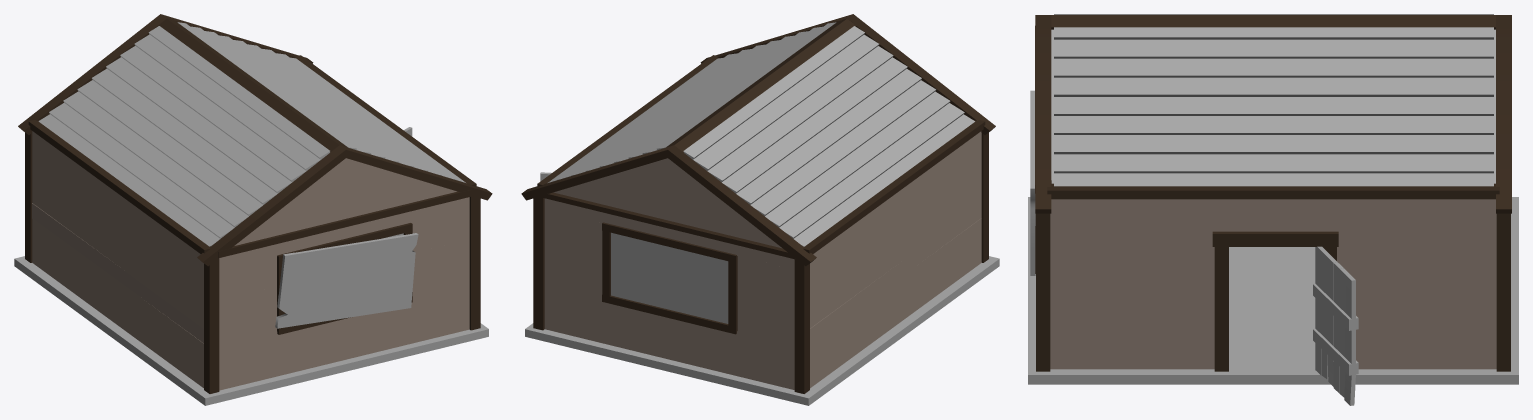
Rendered from cabana.fbx.
3 views of the same model, side by side, from view 1: azimuth 30°, elevation 25°; view 2: azimuth 150°, elevation 25°; view 3: azimuth 270°, elevation 25° (orthographic). The views are drawn at different scales.
Parts seen in each view (by area): view 1: polySurface159, polySurface43, polySurface171, pCube208, polySurface46; view 2: polySurface159, polySurface43, polySurface171, pCube211, polySurface46; view 3: polySurface43, polySurface159, polySurface171, polySurface46, polySurface50, pCube208.
Part boxes in pixels (x1,y1,x2,y2): polySurface159: (32,131,469,390); polySurface43: (38,22,465,246); polySurface171: (18,14,492,393); pCube208: (275,233,418,328); polySurface46: (14,256,488,405); polySurface159: (544,131,981,389); polySurface43: (548,22,974,246); polySurface171: (521,14,995,393); pCube211: (611,232,728,323); polySurface46: (525,256,999,405); polySurface43: (1051,14,1495,186); polySurface159: (1050,199,1496,369); polySurface171: (1035,15,1511,371); polySurface46: (1028,197,1518,384); polySurface50: (1313,246,1358,405); pCube208: (1030,90,1035,275).
Bounding box in the file's own units: 12.8 × 8.11 × 12.68.
